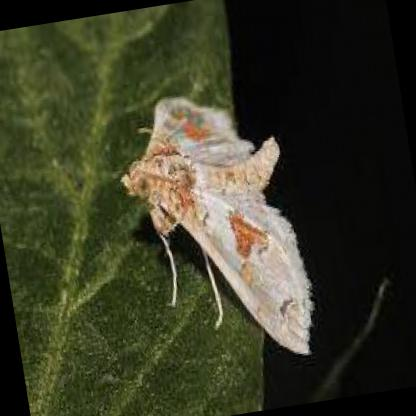leucinodes: (123, 98, 312, 353)
